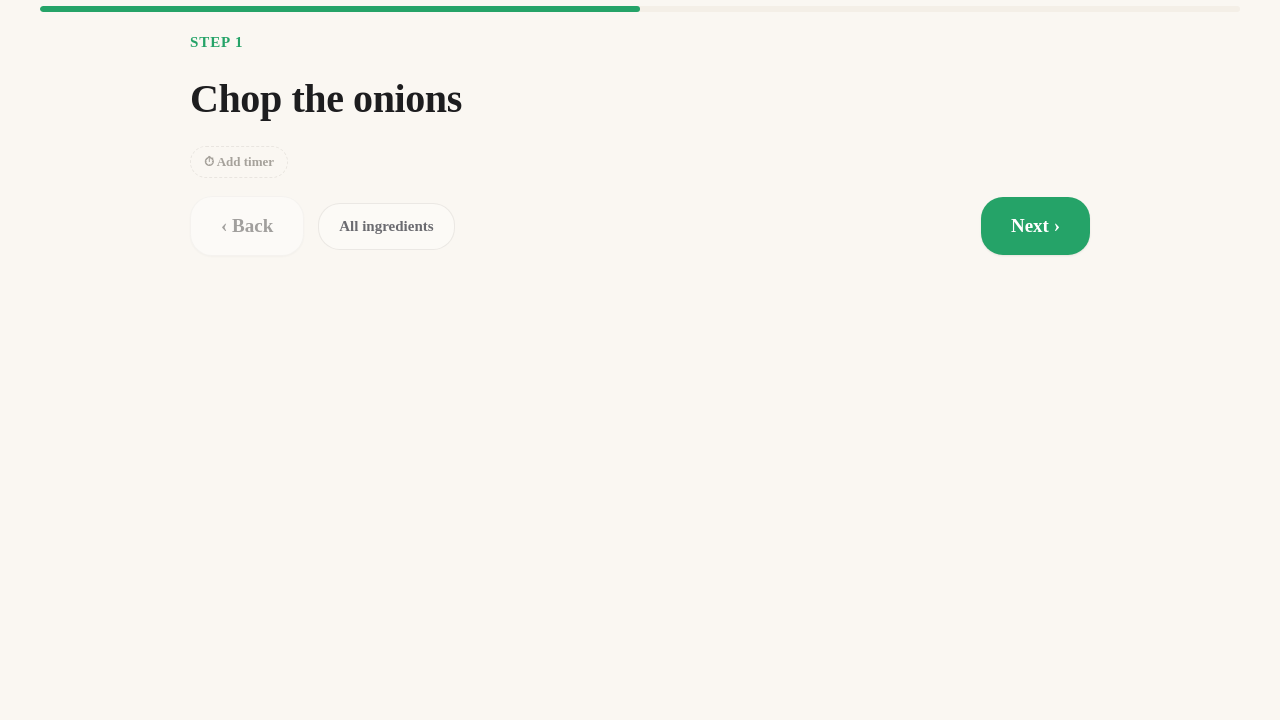
CookMode — dock jump-to-step › tapping a running dock timer returns the view to the step that started it
Check: the text "Chop the onions" is shown, box [190,73,462,124]
Start an on-the-spot timer on step 1.
Click the button "⏱ Add timer": [239, 162] box [190,146,288,178]
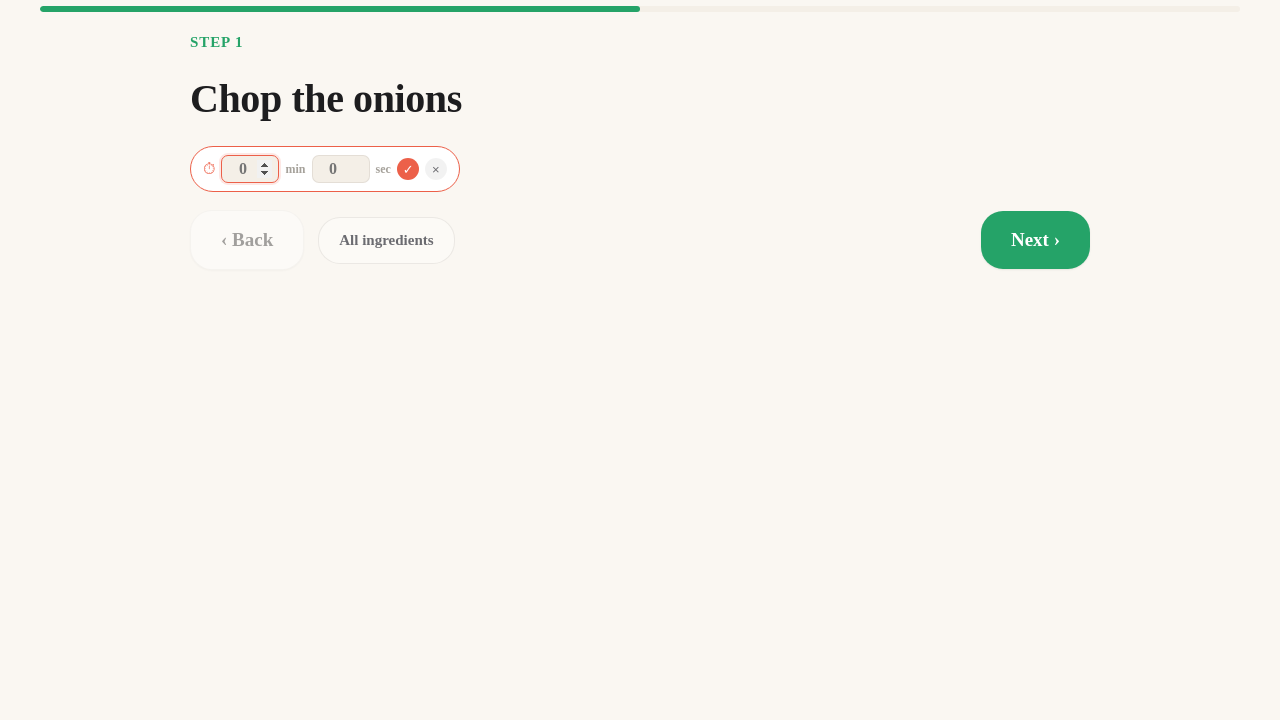
In the number field named "minutes": [250, 169] box [222,155,280,183], type "3"
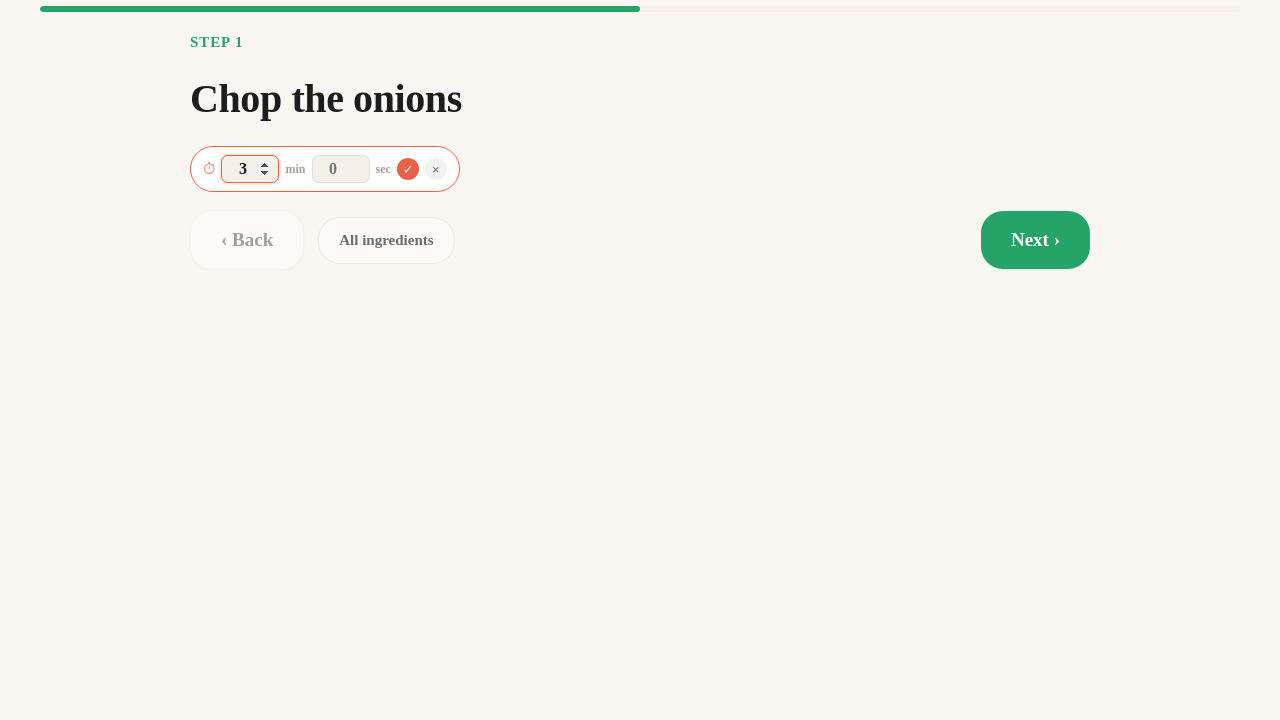
Click the button named "start timer": [408, 169] box [397,158,419,180]
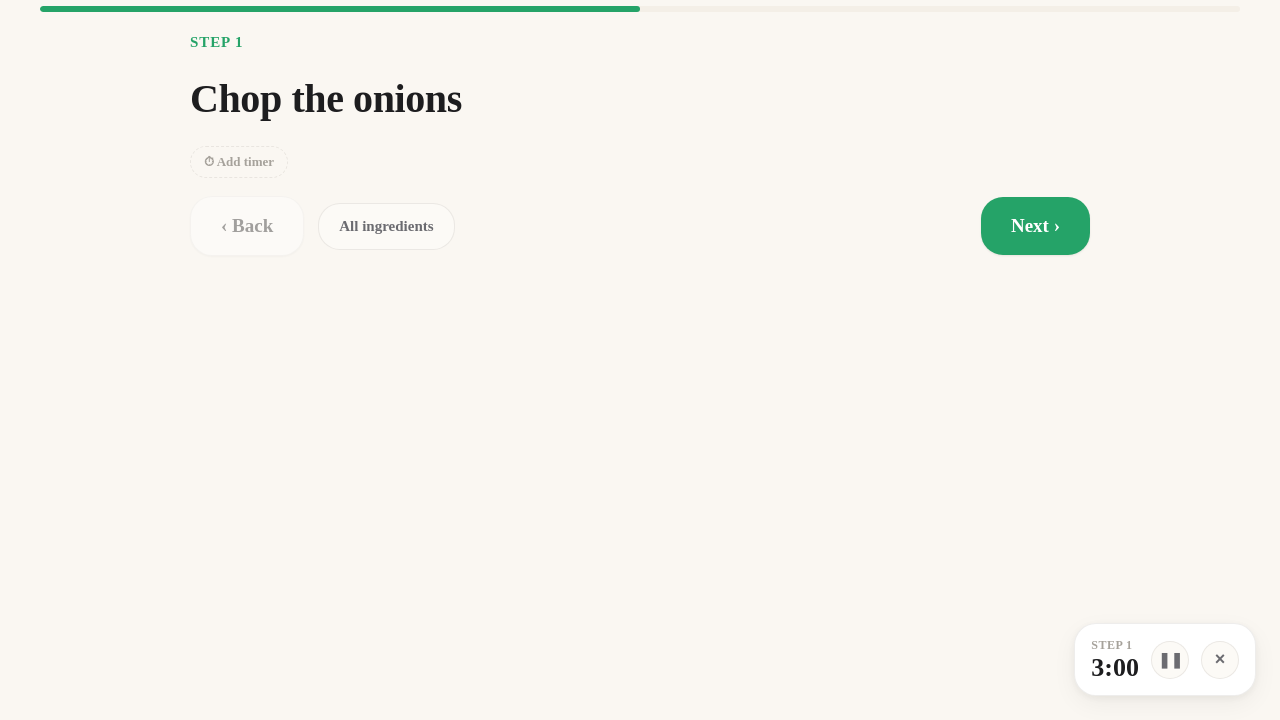
Check: the message shows "3:00", box [1091,653,1139,682]
Advance to a later step — step 1's instruction is gone.
Click the button "Next ›": [1035, 226] box [981,197,1090,255]
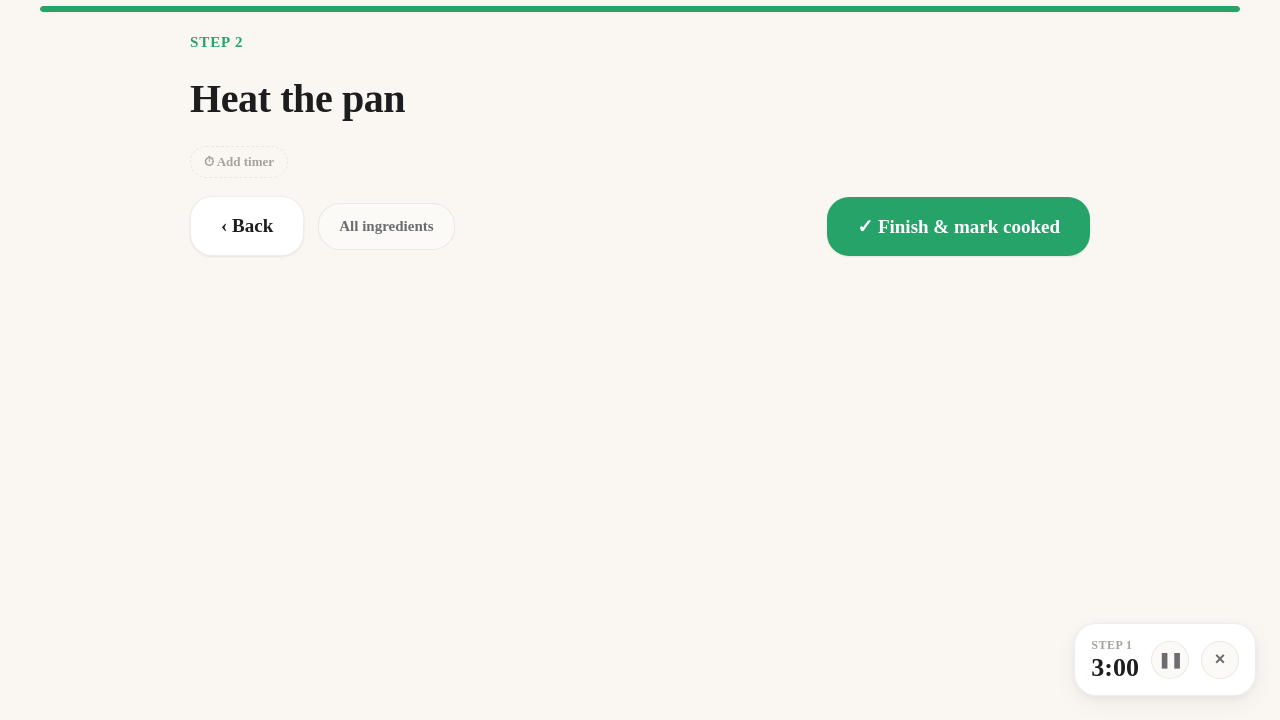
Check: the text "Heat the pan" is shown, box [190,73,405,124]
Check: the text "Chop the onions" is gone
Tap the dock timer's info — should jump back to step 1.
Click the button with aria-label "jump to this step": [1115, 660] box [1091,638,1139,681]
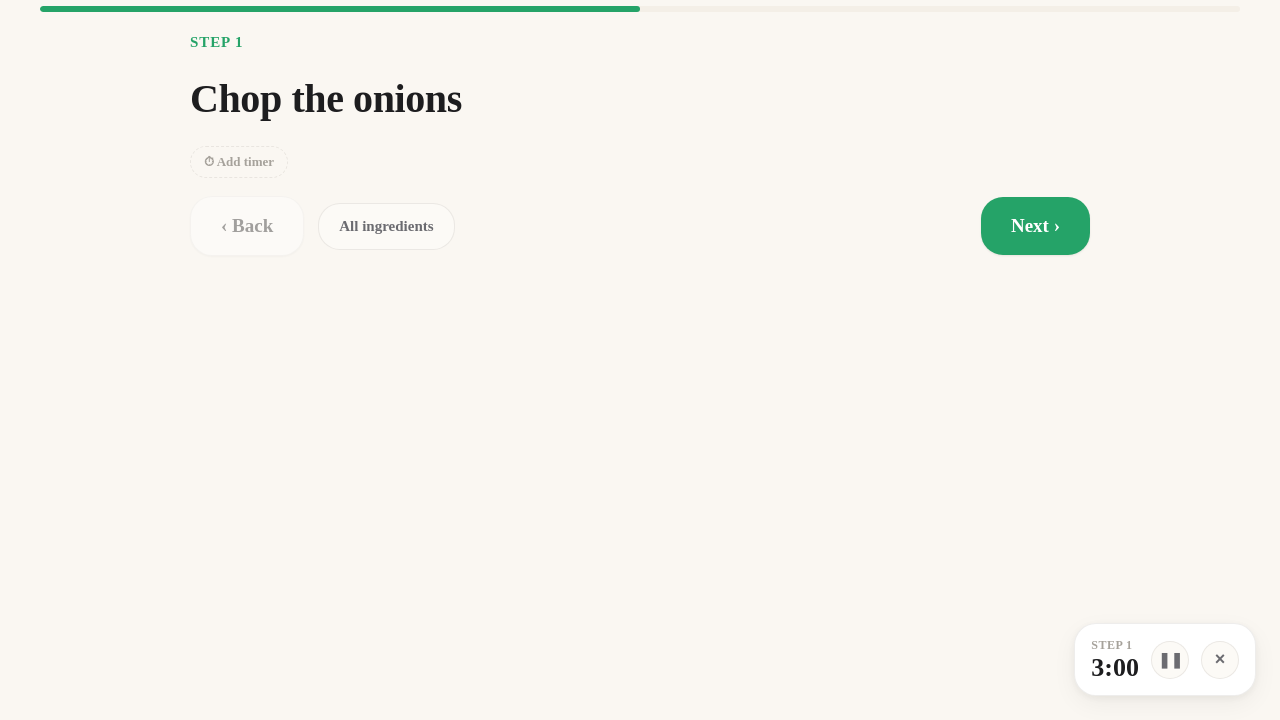
Check: the text "Chop the onions" is shown, box [190,73,462,124]
